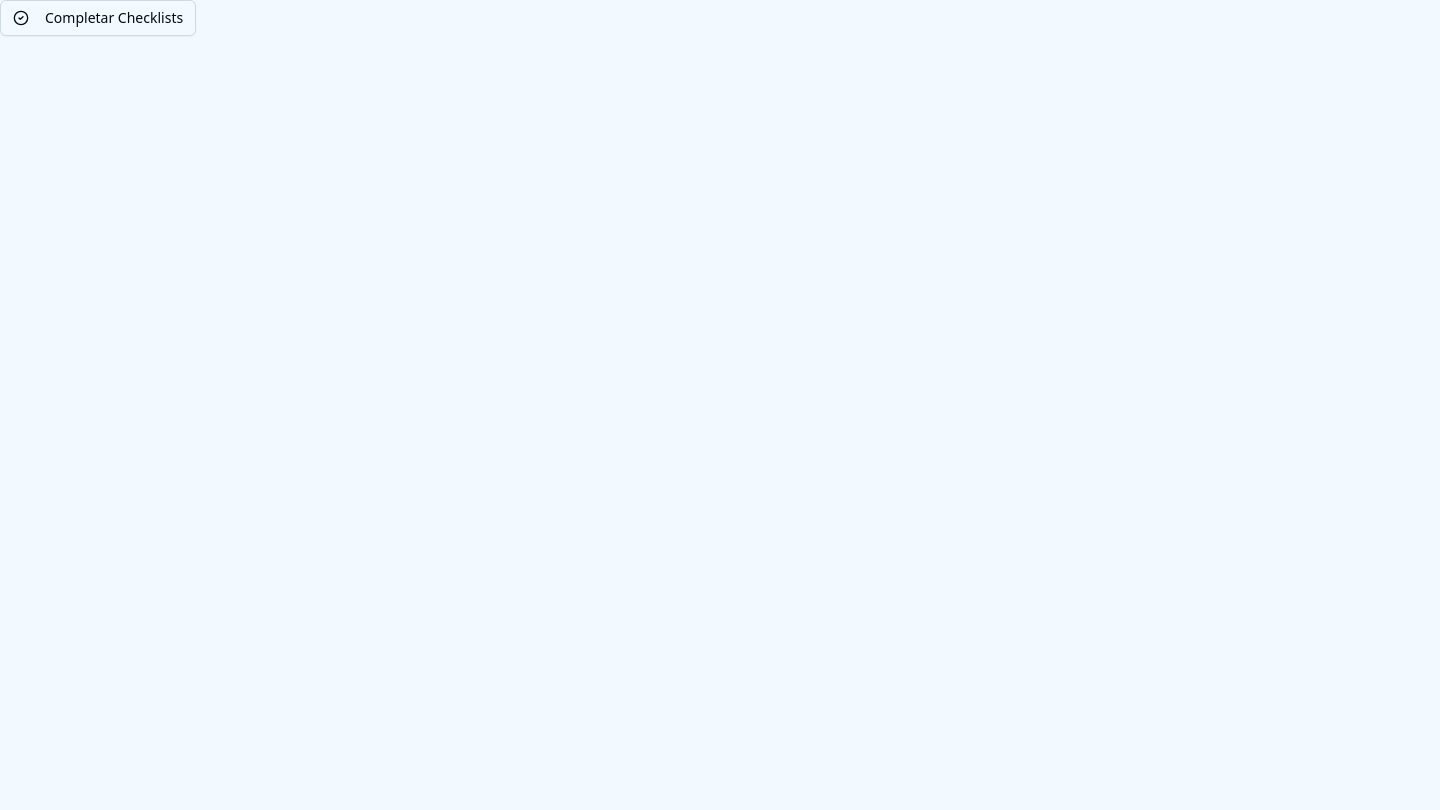
ChecklistCompletionModal › should show message when no checklists available
What coordinates should you click on to do the following:
click the button "Completar Checklists"
I would click on:
 (98, 18)
Its box is [0,0,196,36].
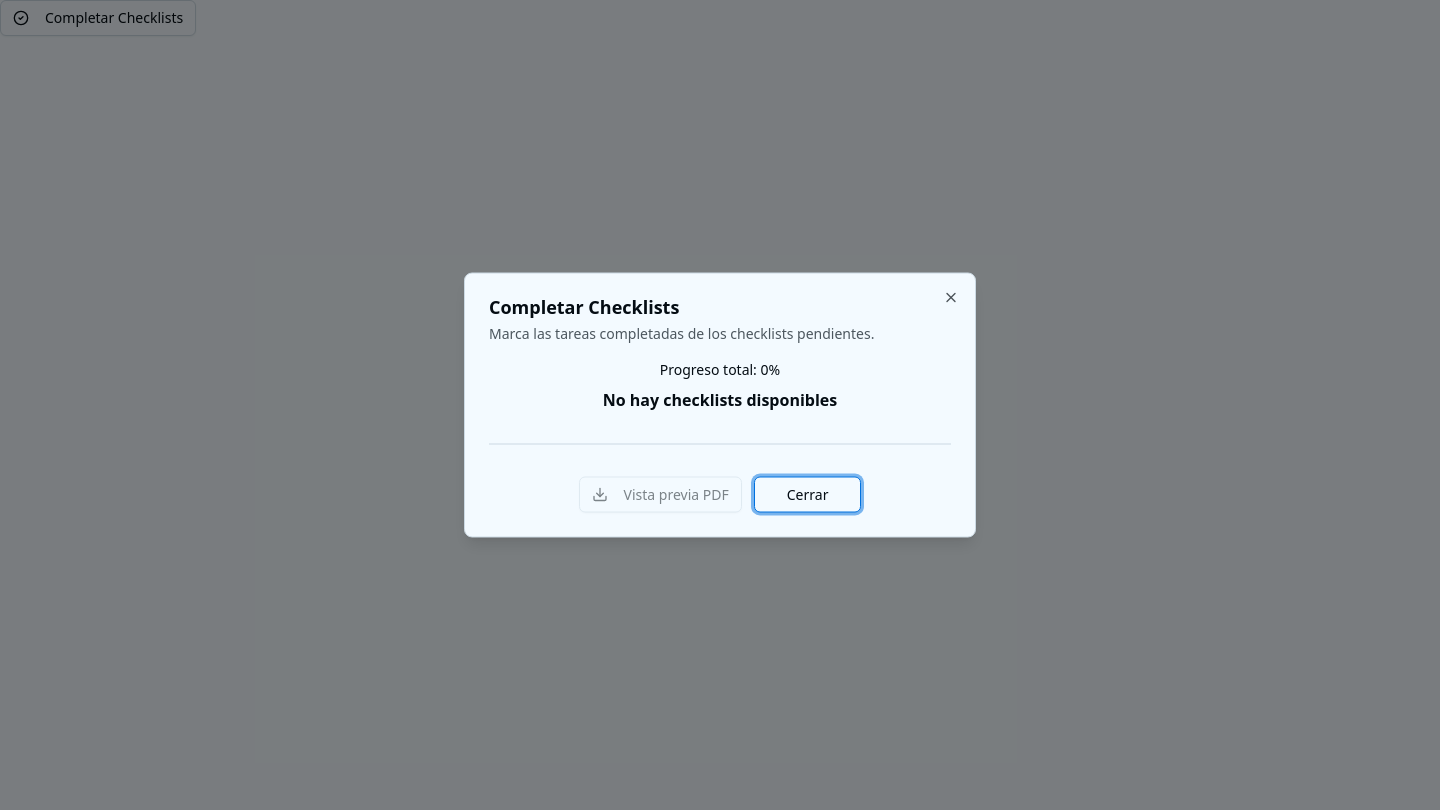
Result: the text "No hay checklists disponibles" is shown at [603,388,837,410]
